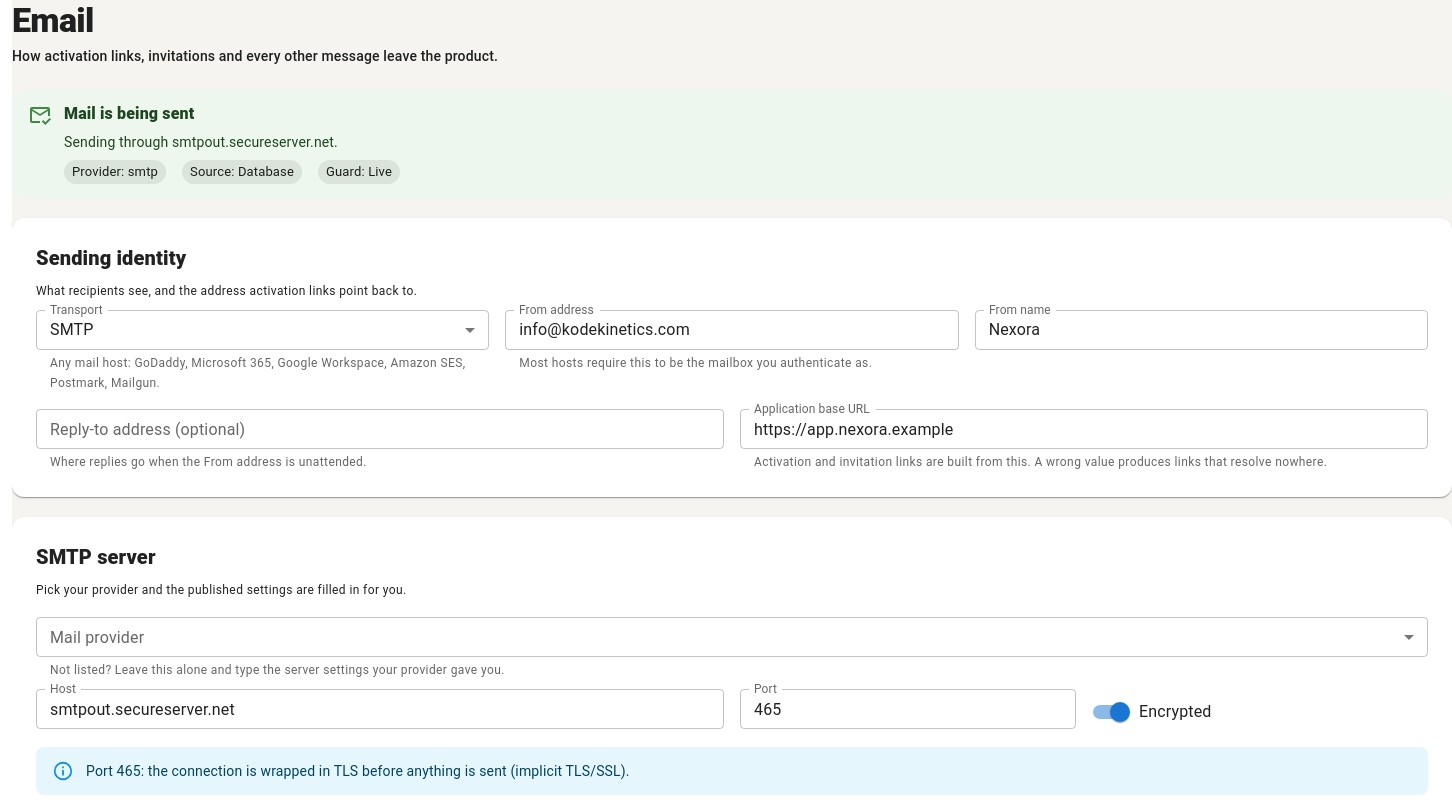
Test: platform email settings › blocks a port outside the range the server accepts, and names it
Clear the number field labelled "Port". click: (908, 709)
box: 740,689 -> 1076,729
(page scrolled)
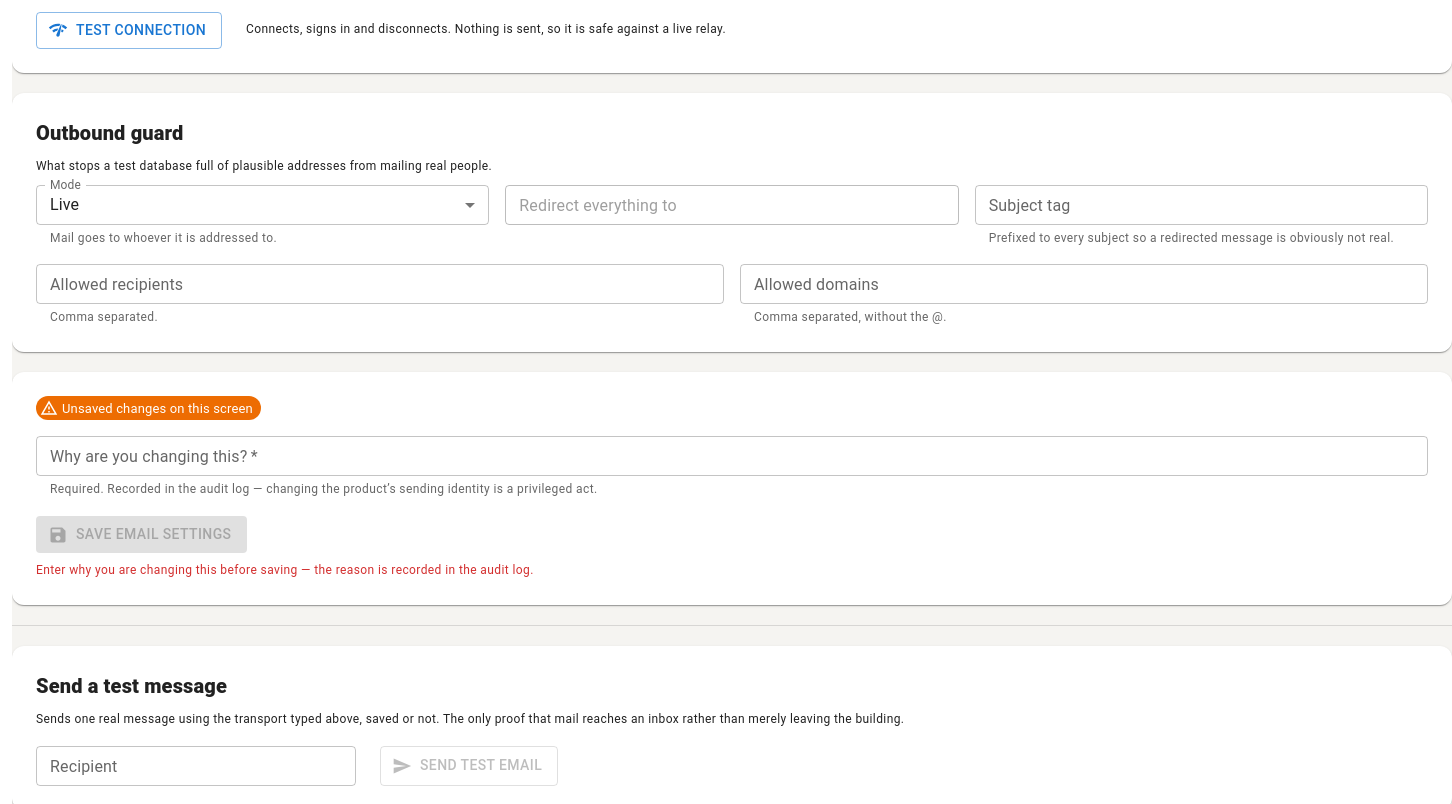
Type "Correcting the port" into the field labelled "Why are you changing this? *". click: (732, 456)
box: 36,436 -> 1428,476
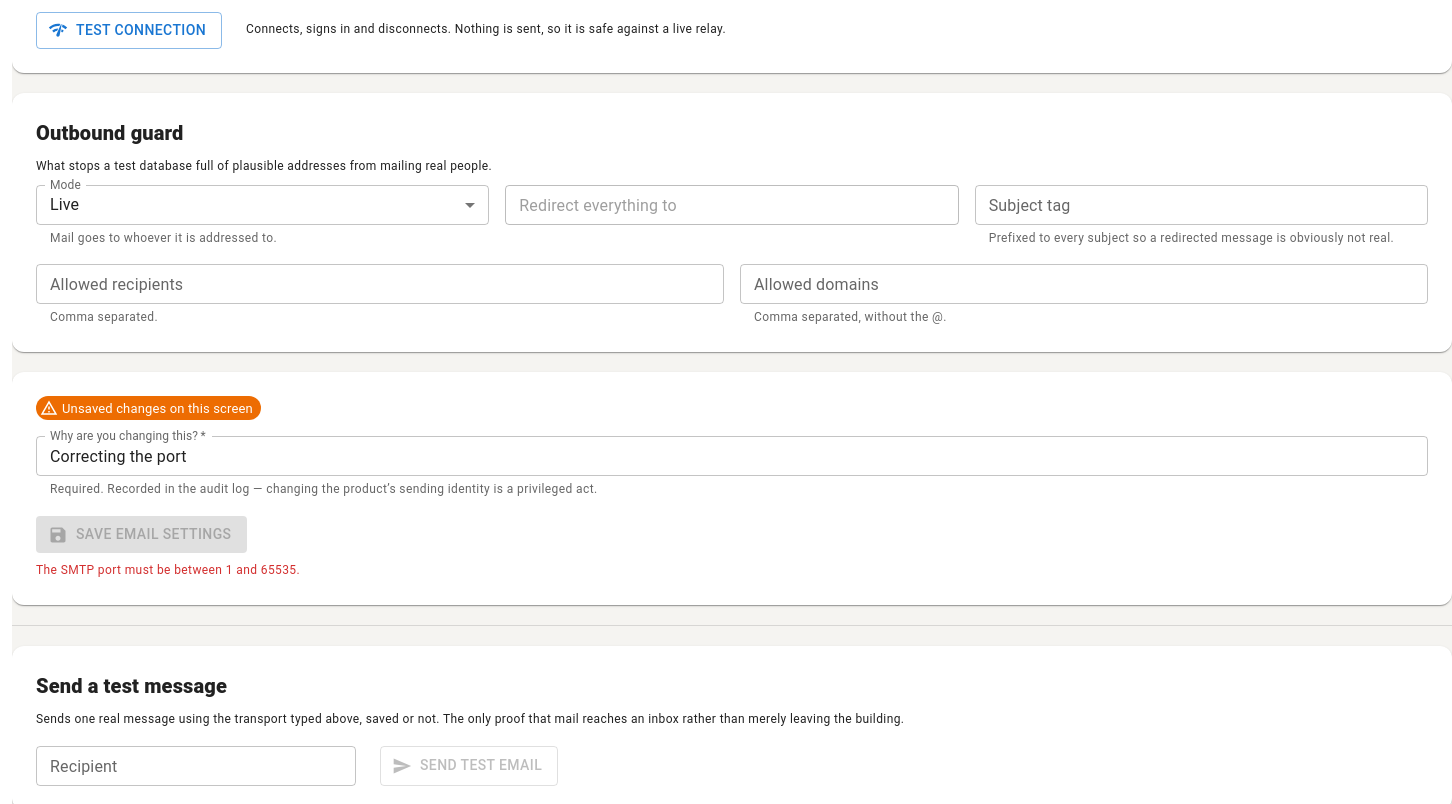
expect the button "Save email settings" is disabled: met, box 36,516 -> 248,553
expect the text "The SMTP port must be between 1 and 65535." is shown: met, box 36,563 -> 300,577
